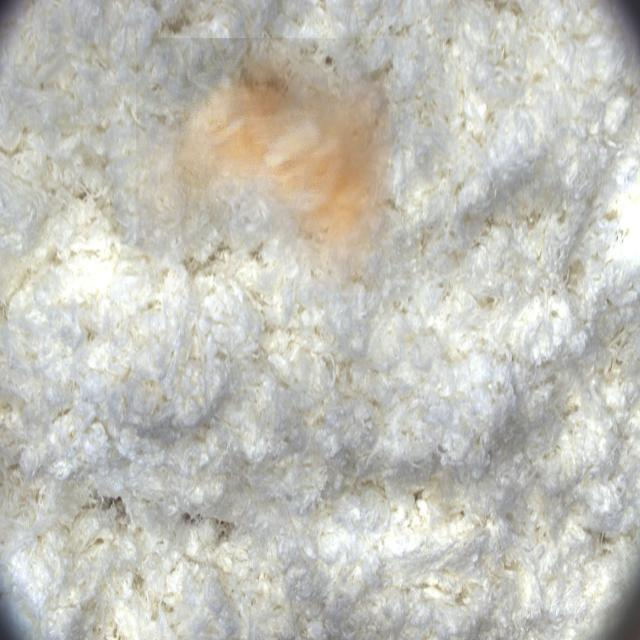dust: (136, 38, 393, 293)
